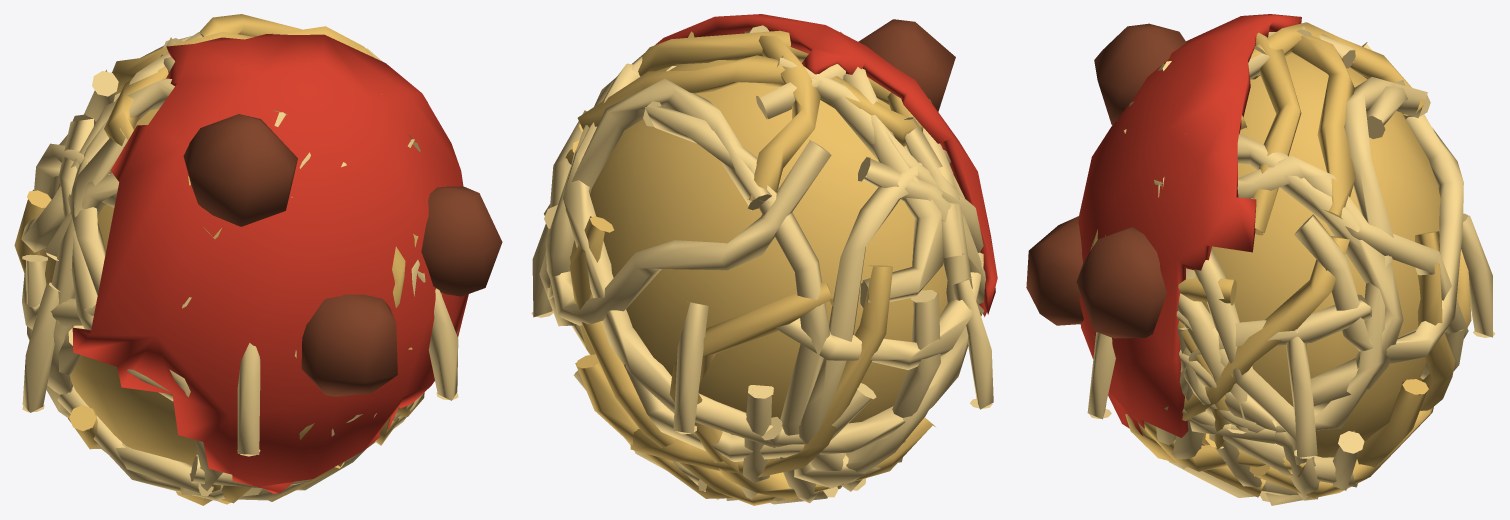
The model's file is tb_mat_spagetti.glb.
The picture shows the model from 3 angles, left to right: view 1: azimuth 30°, elevation 25°; view 2: azimuth 150°, elevation 25°; view 3: azimuth 270°, elevation 25°; orthographic projection.
Visible parts, largest first — view 1: matkropp; view 2: matkropp; view 3: matkropp.
Boxes of the visible parts, x1,y1,x2,y2 form: matkropp: (14, 14, 502, 505); matkropp: (531, 14, 997, 505); matkropp: (1026, 14, 1495, 505).
Bounding box in the file's own units: 0.9604 × 0.9534 × 0.8981.
